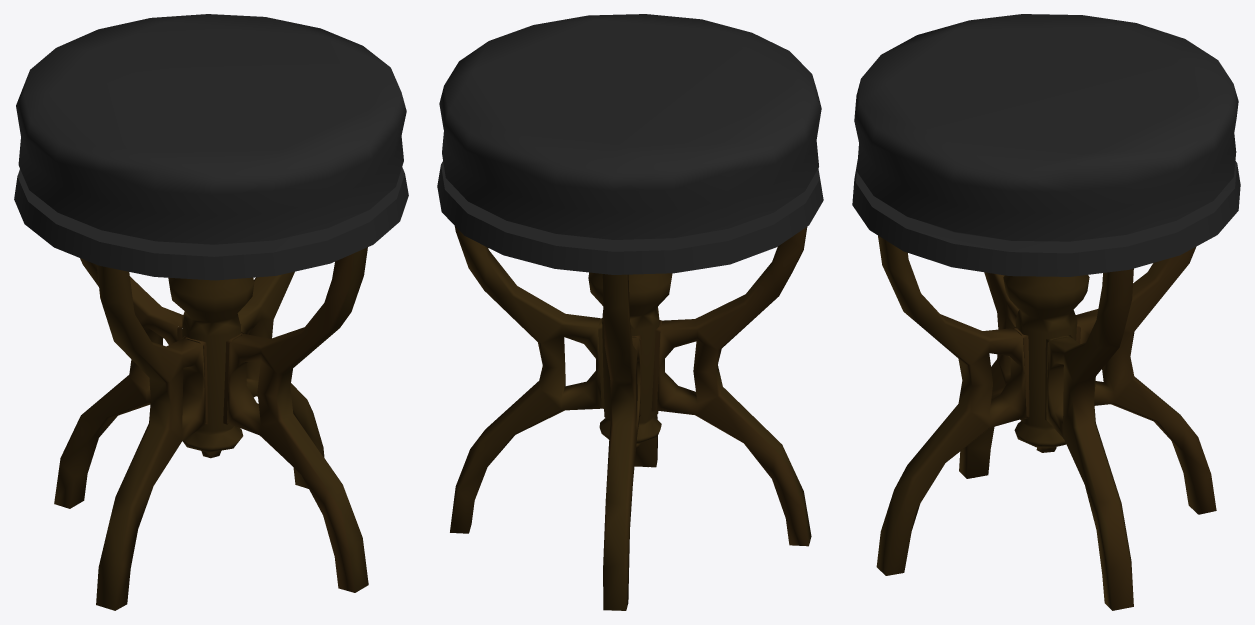
Rendered from 783d4e8f-8860-456d-9a7e-8577fc59efb7.glb.
The picture shows the model from 3 angles, left to right: view 1: azimuth 30°, elevation 25°; view 2: azimuth 150°, elevation 25°; view 3: azimuth 270°, elevation 25°; orthographic projection.
Parts seen in each view (by area): view 1: AntiqueStool.003; view 2: AntiqueStool.003; view 3: AntiqueStool.003.
Part boxes in pixels (x1,y1,x2,y2): AntiqueStool.003: [14, 14, 408, 610]; AntiqueStool.003: [437, 14, 823, 610]; AntiqueStool.003: [852, 14, 1240, 610].
Size of what is drawn, in the model's own units: 0.455 by 0.5872 by 0.4548.
2 materials, 2 textured.
